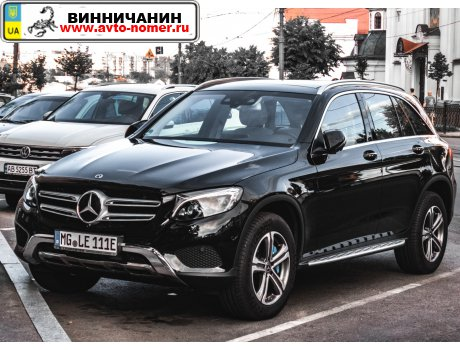License Plates: (61, 231, 114, 246)
